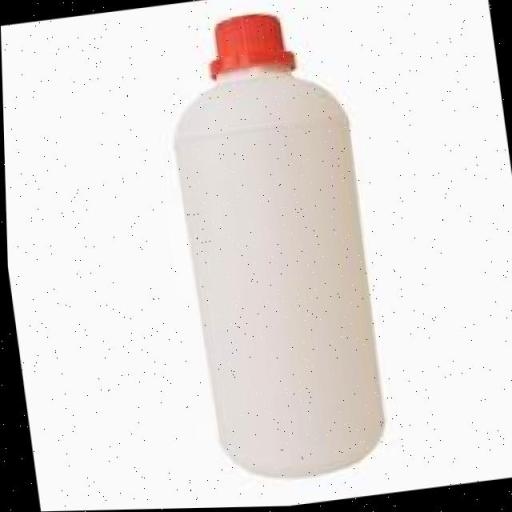plastic: (146, 2, 400, 490)
